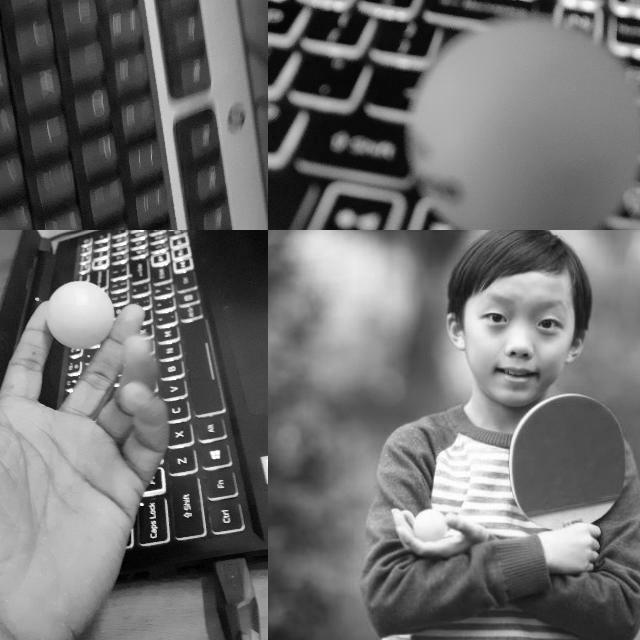ping-pong-ball: (406, 11, 639, 229), (49, 280, 111, 350), (414, 511, 448, 539)
